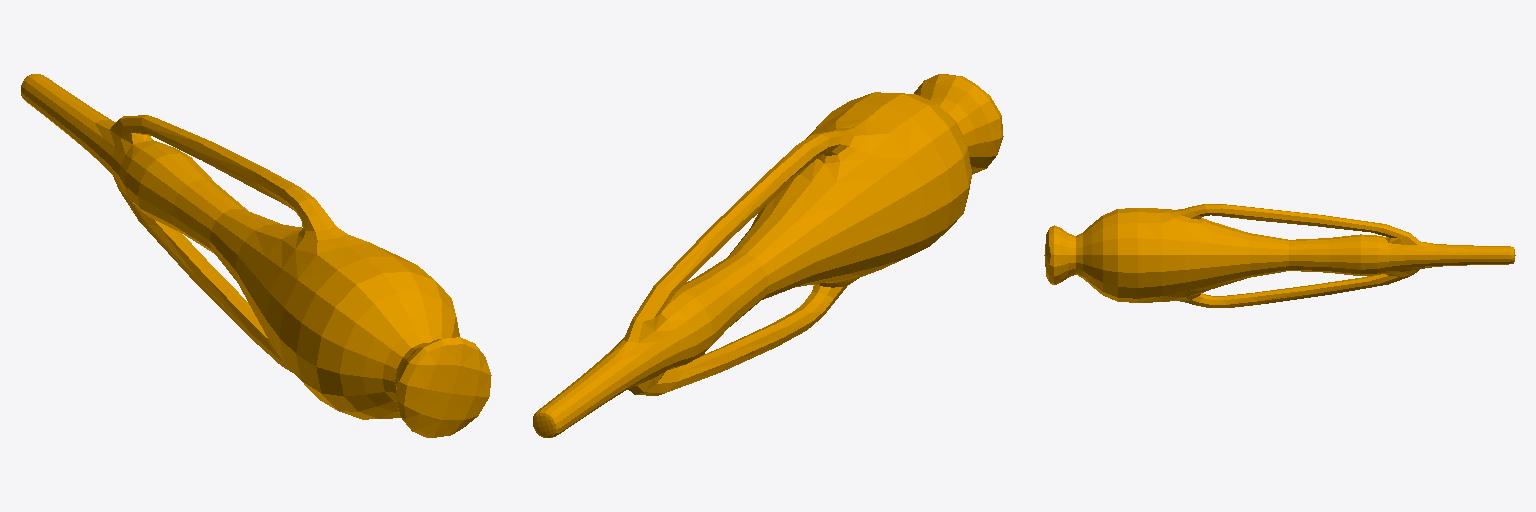
The robot description file, URDF, robot "211":
<?xml version="1.0" ?>
<robot name="211">
  <link name="body">
    <visual>
      <geometry>
        <mesh filename="../shapes/211.obj"/>
      </geometry>
    </visual>
    <collision>
      <geometry>
        <mesh filename="../shapes/211.obj"/>
      </geometry>
    </collision>
  </link>
</robot>

--- Facts derived from the render (not from the file) ---
3 views of the same robot in one strip: view 1: azimuth 30°, elevation 25°; view 2: azimuth 150°, elevation 25°; view 3: azimuth 270°, elevation 25° (orthographic).
Robot: 211 — 1 links, 0 joints (none); root link body; default pose: every joint at zero.
Visible links, largest first — view 1: body; view 2: body; view 3: body.
Boxes of the visible links, x1,y1,x2,y2 form: body: (21, 74, 491, 437); body: (533, 74, 1003, 437); body: (1044, 204, 1515, 307).
Size in the robot's own frame: 3.78 by 19.1 by 4.59 metres.
Meshes: 1 distinct files referenced, 1 mesh visuals loaded (1 OBJ).